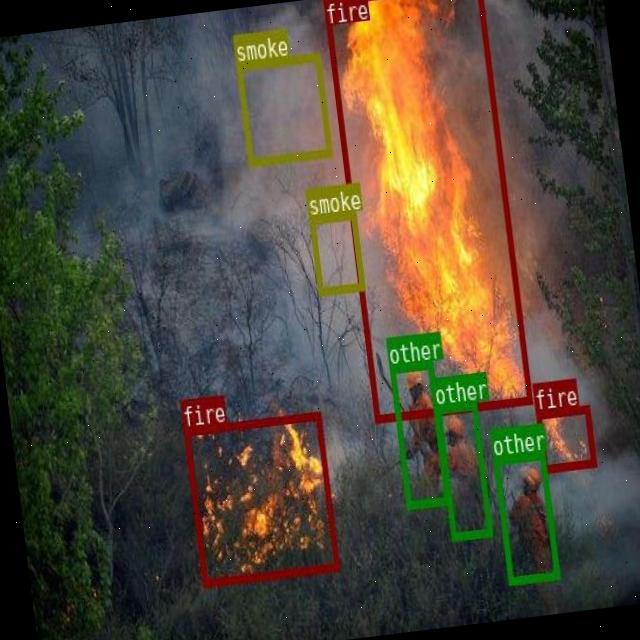fire: (321, 0, 531, 420), (183, 410, 337, 585), (534, 403, 596, 471)
smoke: (235, 52, 331, 164), (307, 210, 363, 294)
